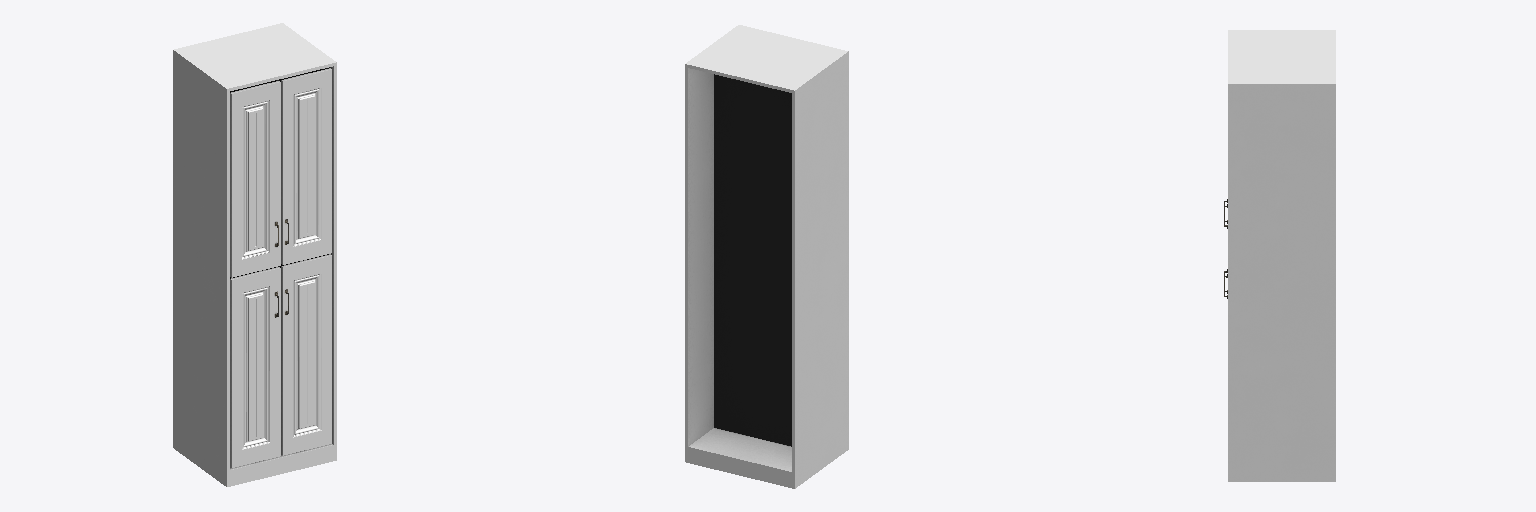
The picture shows the model from 3 angles: view 1: azimuth 30°, elevation 25°; view 2: azimuth 150°, elevation 25°; view 3: azimuth 270°, elevation 25°; orthographic projection.
Parts seen in each view (by area): view 1: solid_001; view 2: solid_001, solid_002; view 3: solid_001.
Boxes of the visible parts, box(x1,y1,x2,y2) form: solid_001: box(173, 23, 336, 486); solid_001: box(685, 25, 848, 488); solid_002: box(714, 74, 791, 446); solid_001: box(1228, 30, 1335, 481).
Bounding box in the file's own units: 0.4997 × 1.73 × 0.442.
Materials: 1 (1 with a texture image).